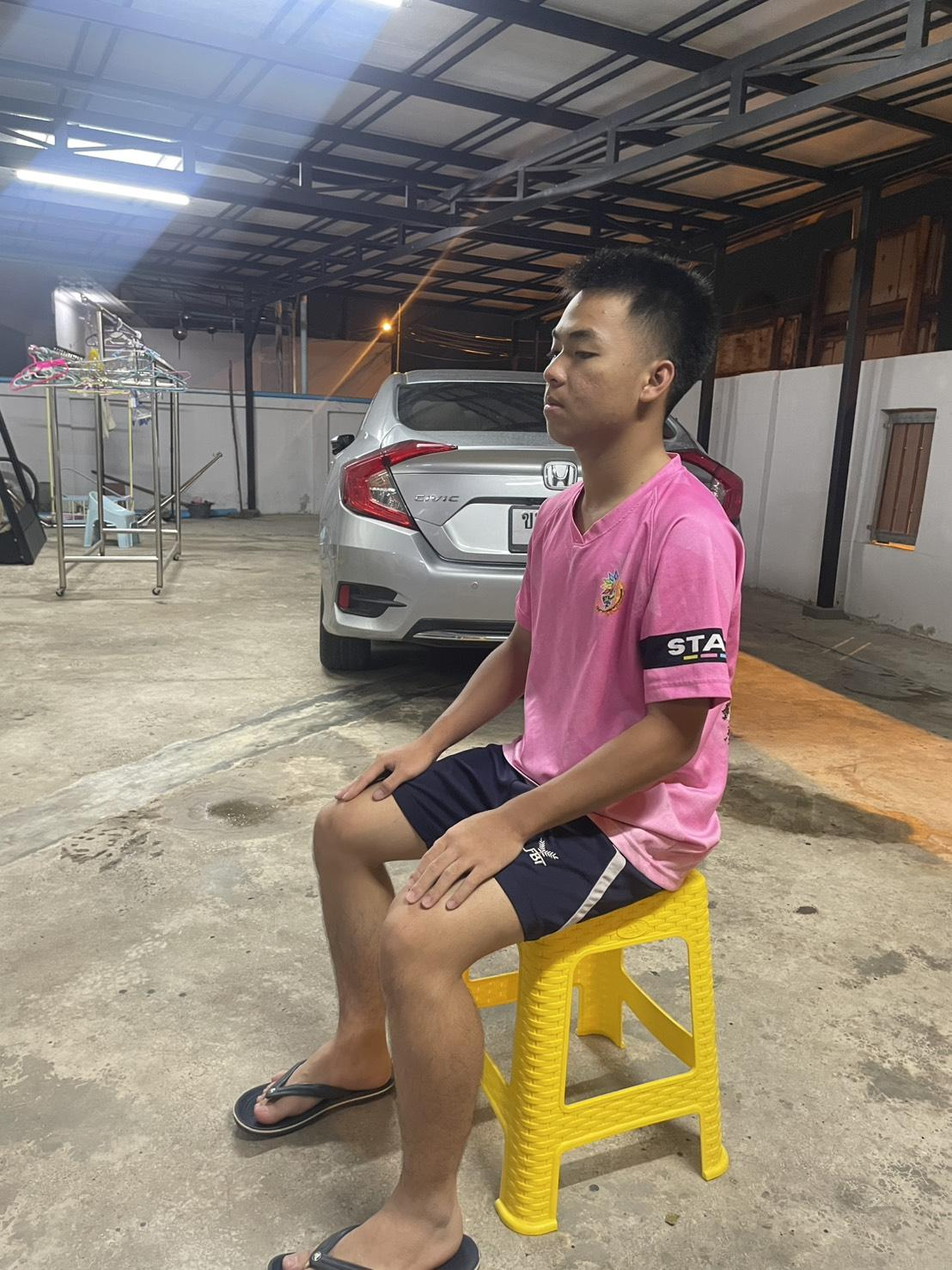GoodPosture: (235, 249, 743, 1269)
